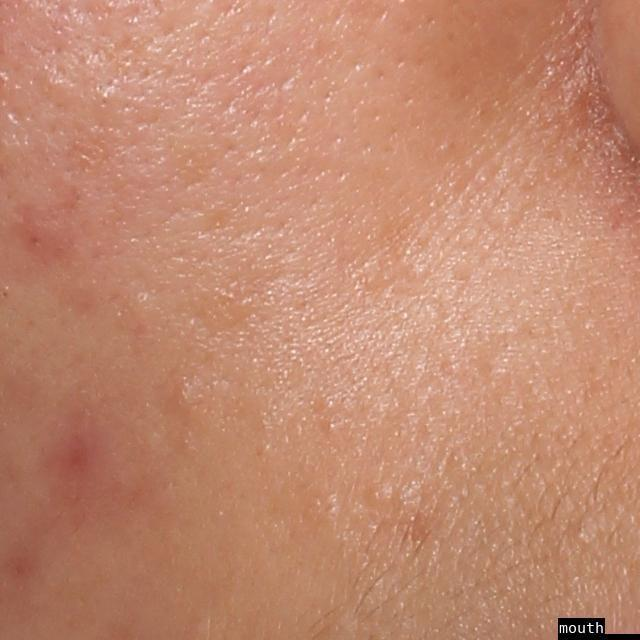comedo: (362, 479, 391, 512)
